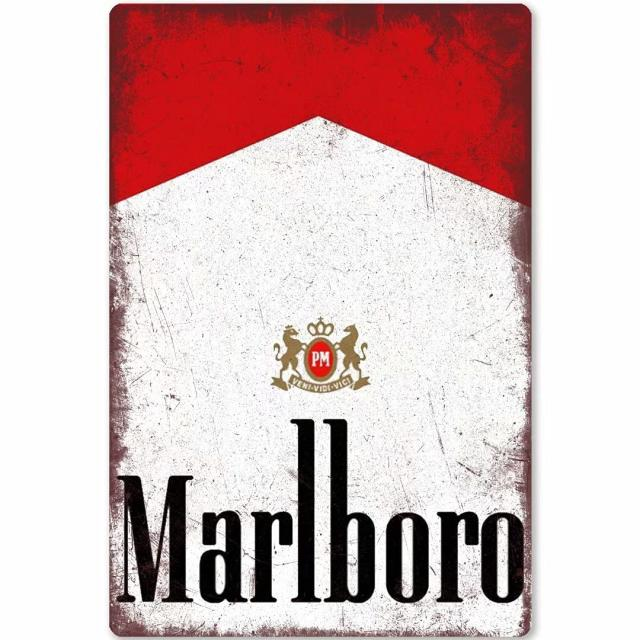marlboro: (99, 4, 545, 640)
